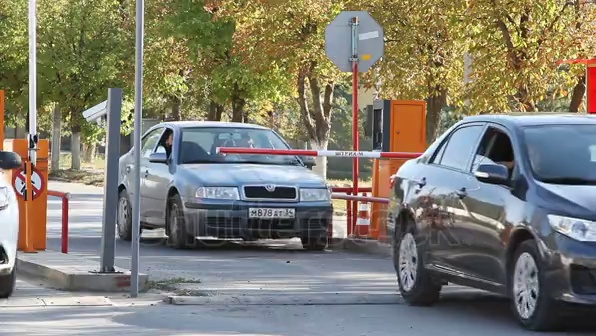licenseplate: (245, 202, 303, 222)
